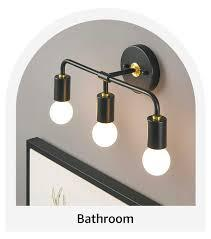light: (136, 94, 177, 175), (88, 71, 120, 146), (48, 56, 76, 130)
